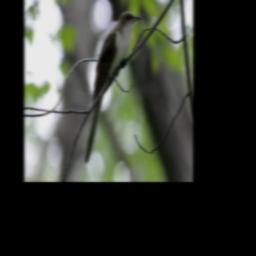Cuckoo: (82, 9, 142, 167)
